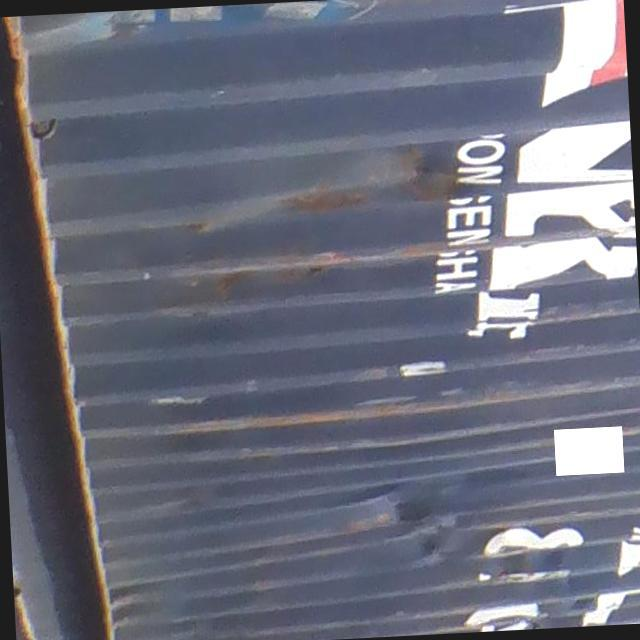dent: (331, 453, 551, 600)
rust: (176, 137, 492, 275)
